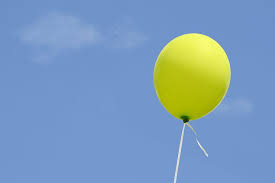Balloon: (153, 33, 231, 120)
